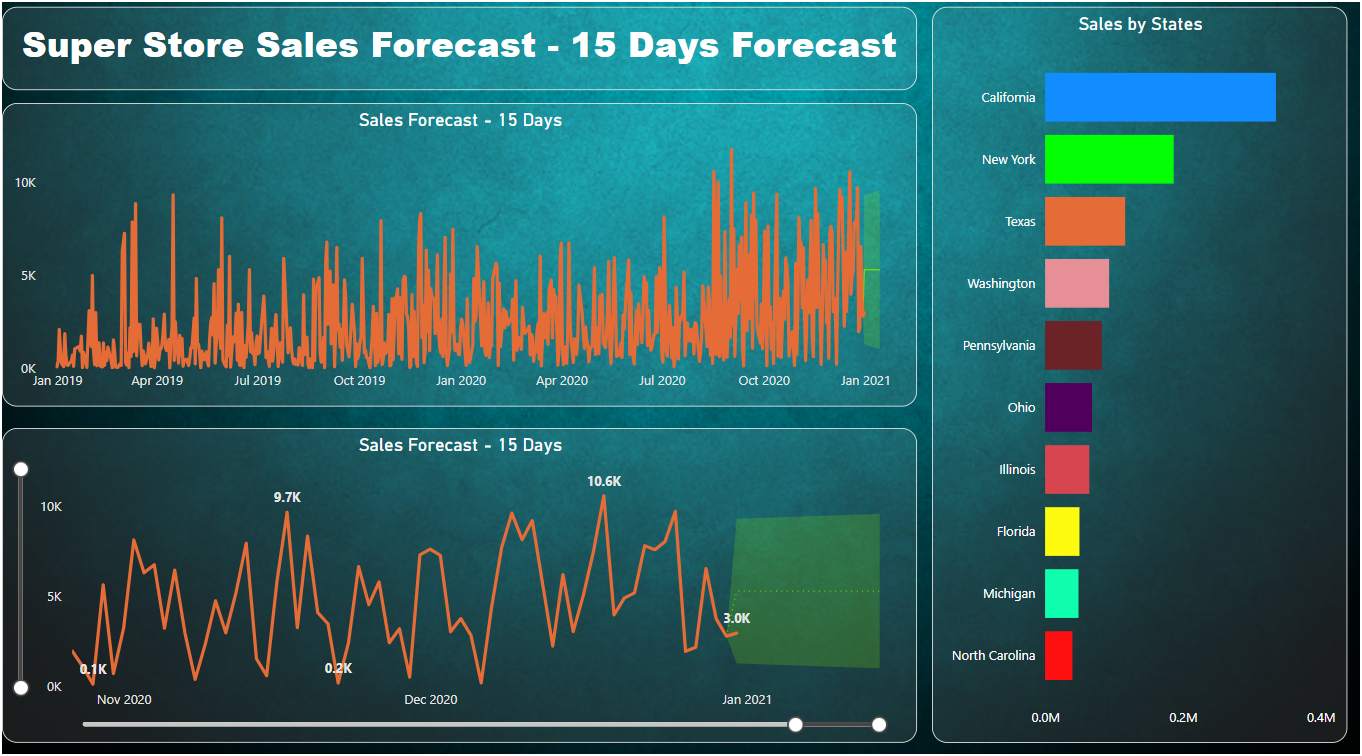

The page's visual inventory and layout, read from the dashboard file:
{"tool":"powerbi","page":{"name":"Sales Forecast","canvas":[1280,720],"ordinal":1},"visuals":[{"type":"lineChart","title":"Sales Forecast - 15 Days","fields":{"Y":["Sum(SuperStore_Sales_Dataset.Sales)"],"Category":["SuperStore_Sales_Dataset.Order Date"]},"box":[8.8,102.5,851.2,282.5],"z":0},{"type":"lineChart","title":"Sales Forecast - 15 Days","fields":{"Y":["Sum(SuperStore_Sales_Dataset.Sales)"],"Category":["SuperStore_Sales_Dataset.Order Date"]},"box":[8.8,405,851.2,292.5],"z":1000},{"type":"clusteredBarChart","title":"Sales by States","fields":{"Category":["SuperStore_Sales_Dataset.State"],"Y":["Sum(SuperStore_Sales_Dataset.Sales)"]},"box":[875,12.5,386.2,685],"z":2000},{"type":"textbox","box":[8.8,12.5,851.2,77.5],"z":3000}]}

Visuals, with their boxes in screenshot pixels (x1, y1, x2, y2), scaled from the page's 1280x720 canvas onto the 1362x756 screenshot:
"Sales Forecast - 15 Days" lineChart: <box>9,108,915,404</box>
"Sales Forecast - 15 Days" lineChart: <box>9,425,915,732</box>
"Sales by States" clusteredBarChart: <box>931,13,1342,732</box>
textbox: <box>9,13,915,94</box>
